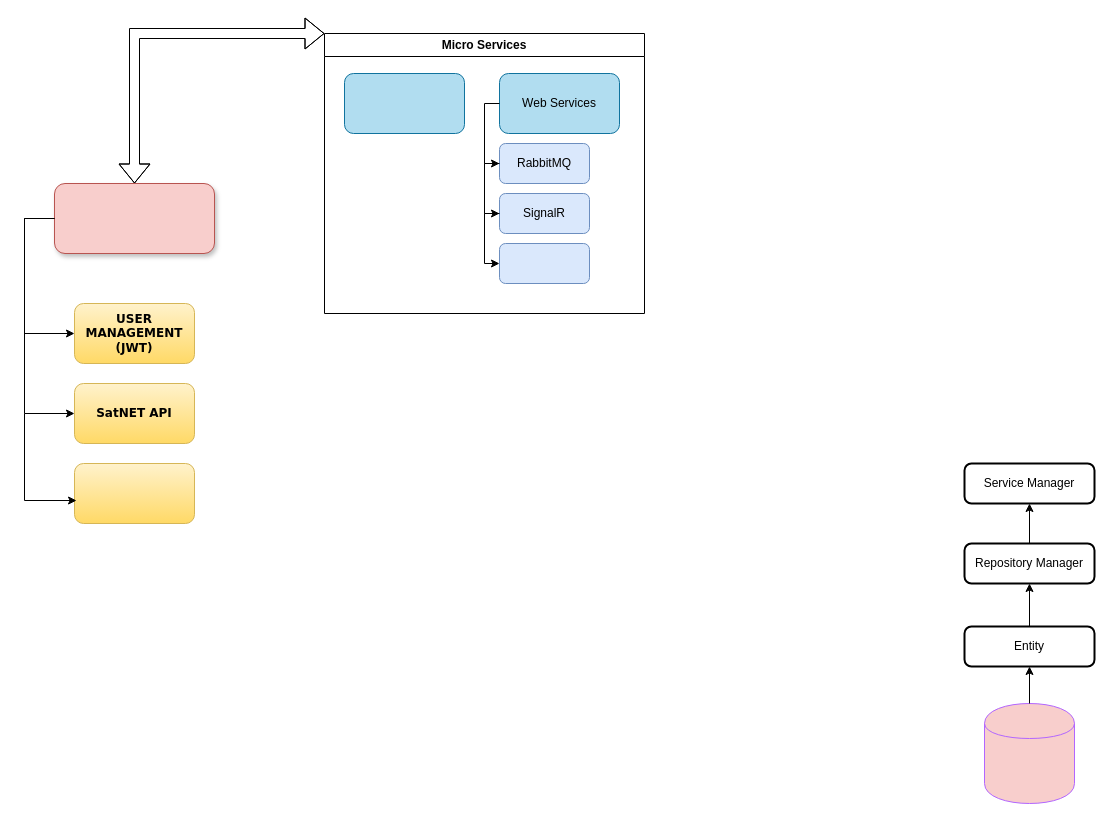
Some shapes in this 1113 by 821 pixel diagram are drawn without their labels. The shapes that lost their labels are listed below. From the top down, each one's centre as x and y in pixels, then its label:
(404,103): Windows Services
(135,219): API GATEWAY
(544,263): HangFire
(134,493): Procost API
(1029,753): DB
